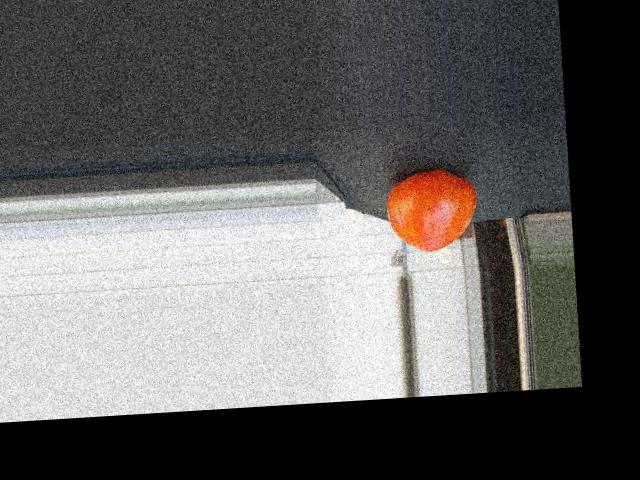tomato: (384, 167, 479, 254)
